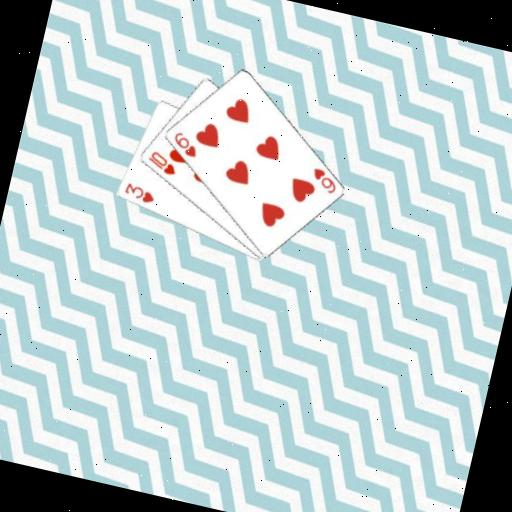10H: (143, 147, 182, 178)
3H: (120, 179, 159, 206)
6H: (306, 164, 341, 197), (168, 128, 202, 160)
